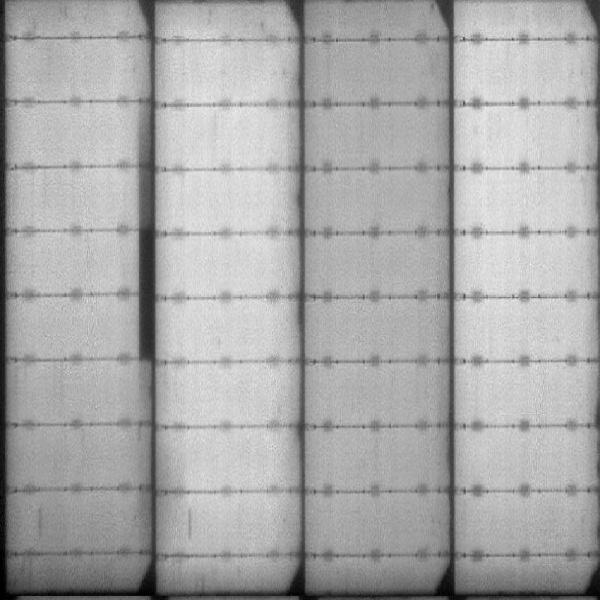black_border: (132, 96, 158, 366)
